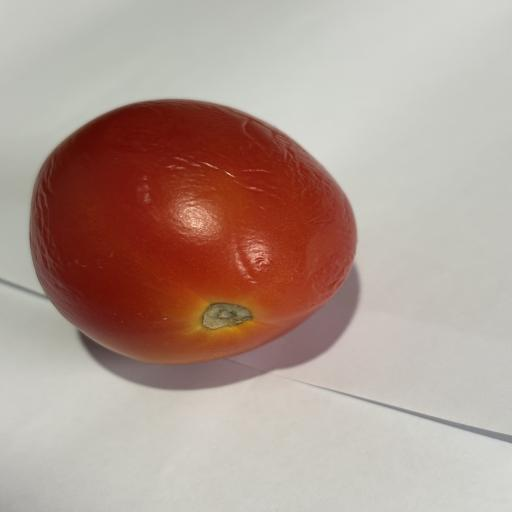spoiled: (31, 100, 356, 364)
